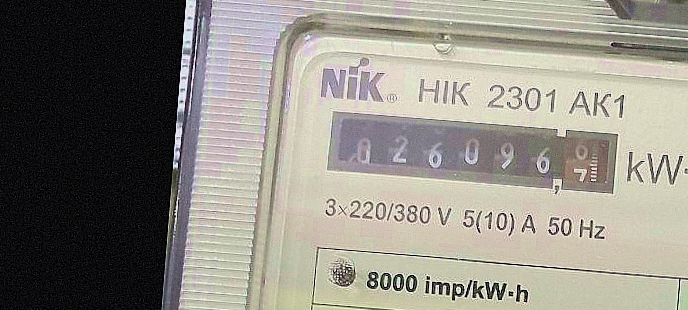0: (460, 133, 483, 169), (352, 132, 374, 166)
2: (388, 131, 412, 168)
6: (425, 136, 446, 173), (533, 142, 553, 176), (571, 135, 592, 163)
7: (570, 164, 590, 186)
9: (496, 139, 517, 172)
screen: (316, 101, 627, 206)
